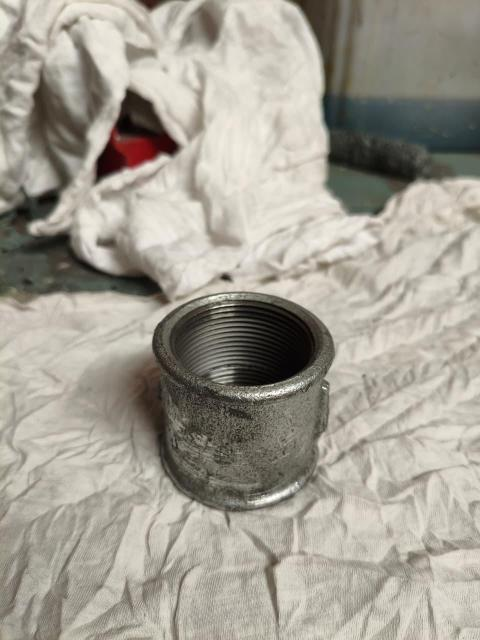Metal: (153, 290, 338, 505)
